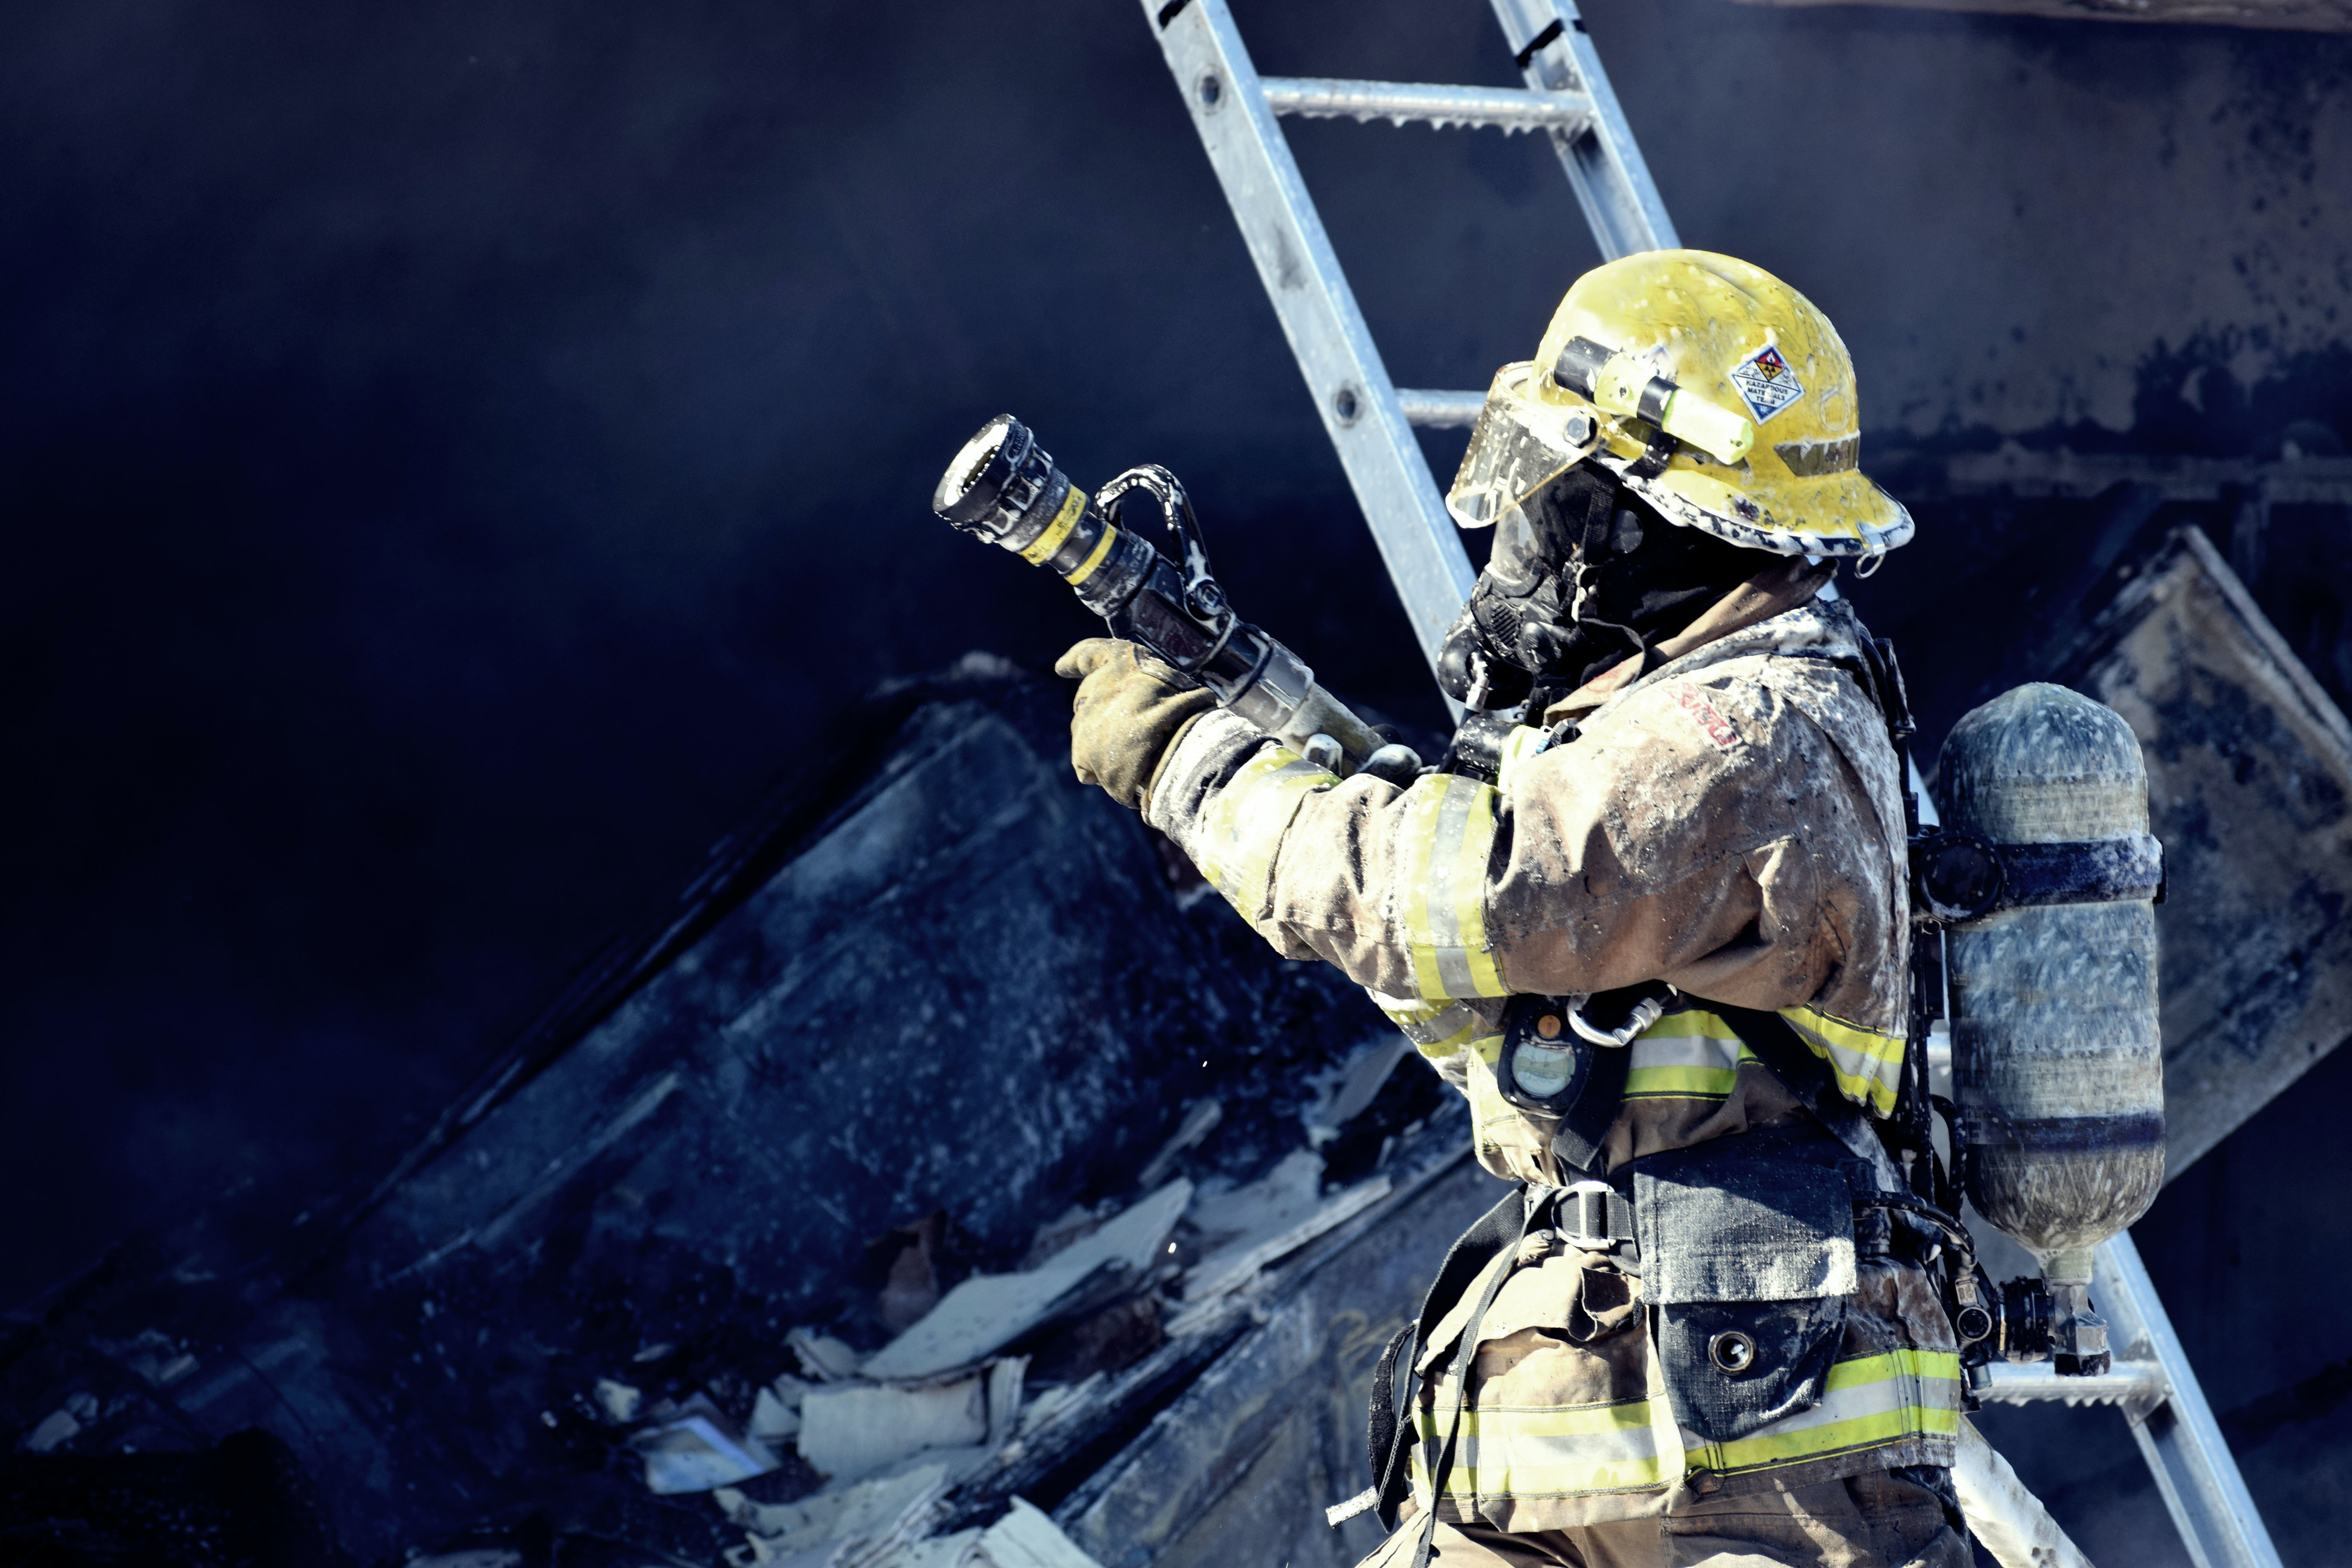emergent: (1032, 250, 2165, 1568)
